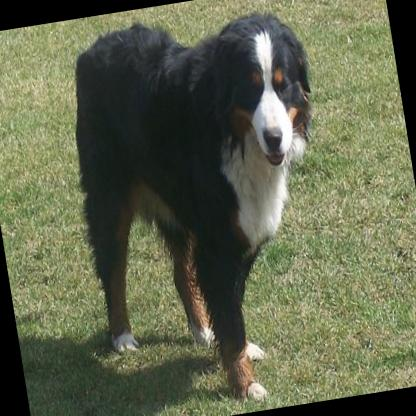Bernese_mountain_dog: (50, 0, 359, 416)
